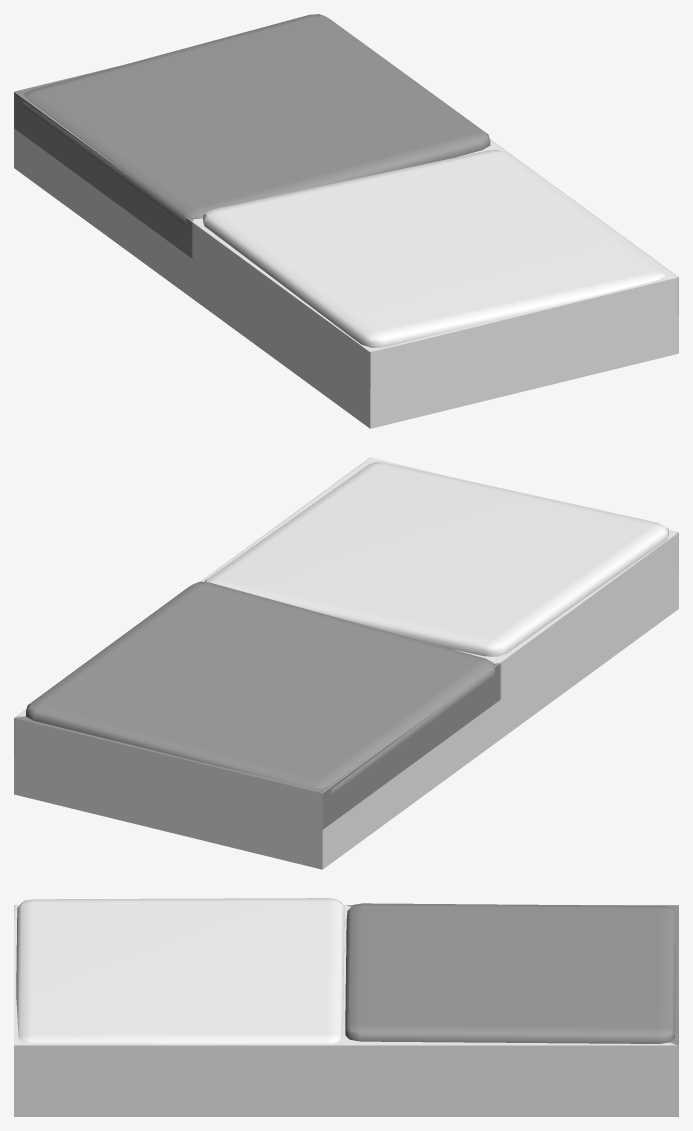
The model's file is Floor Tiled Half.fbx.
3 renders of one model, top to bottom at view 1: azimuth 30°, elevation 25°; view 2: azimuth 150°, elevation 25°; view 3: azimuth 270°, elevation 25°, orthographic. The views are drawn at different scales.
Parts seen in each view (by area): view 1: Floor_Tiled_Half; view 2: Floor_Tiled_Half; view 3: Floor_Tiled_Half.
Part boxes in pixels (left/top/right/bottom): Floor_Tiled_Half: left=14, top=14, right=678, bottom=428; Floor_Tiled_Half: left=14, top=457, right=678, bottom=869; Floor_Tiled_Half: left=14, top=898, right=678, bottom=1116.
Bounding box in the file's own units: 0.5032 × 0.1381 × 1.
